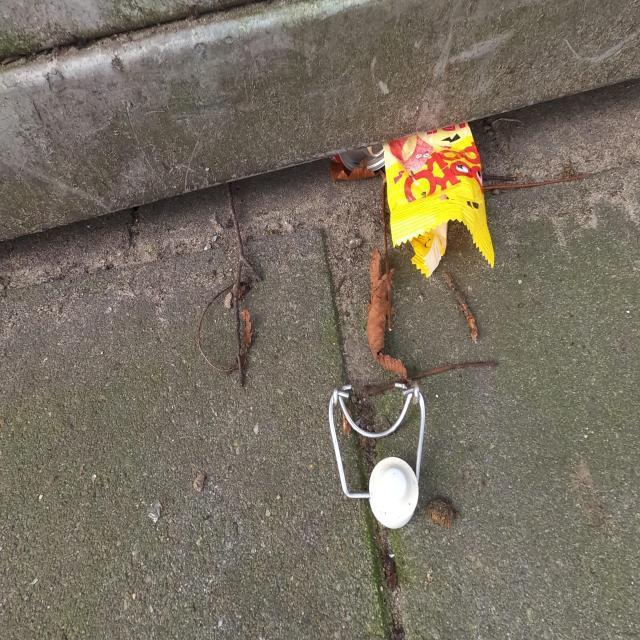Plastic: (382, 119, 496, 280)
